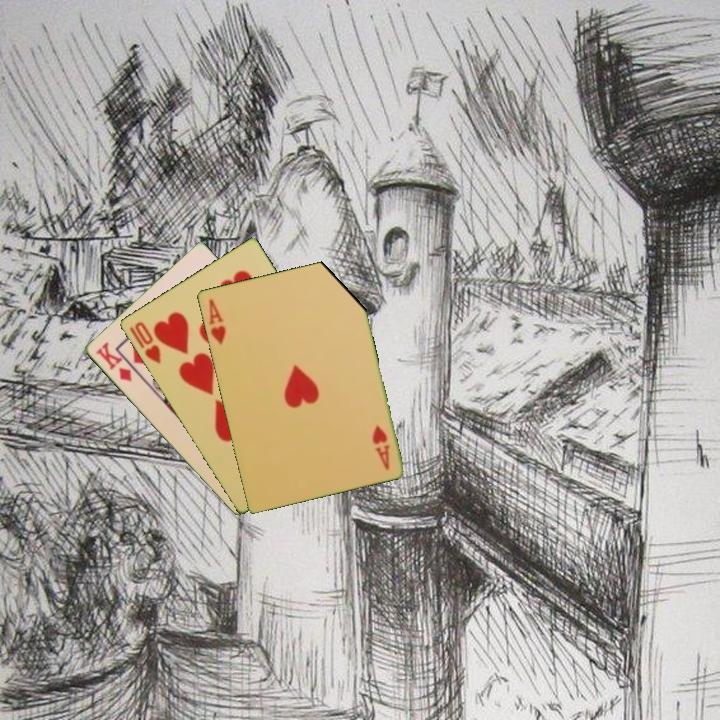10h: (125, 318, 163, 366)
Ah: (205, 295, 228, 347), (369, 421, 392, 473)
Kd: (92, 339, 135, 385)
